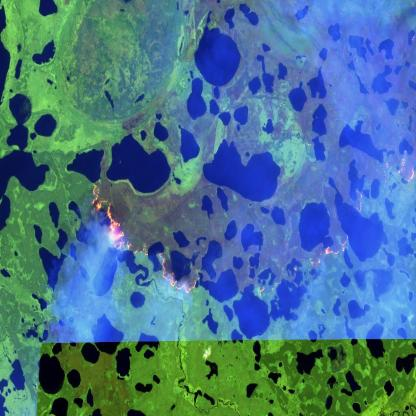fire: (85, 169, 204, 297), (351, 147, 416, 219), (302, 232, 354, 278)
